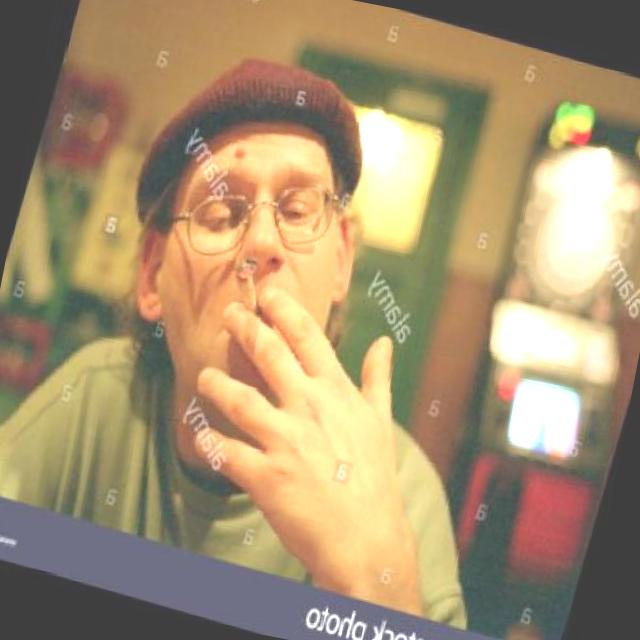cigarette: (218, 258, 270, 320)
